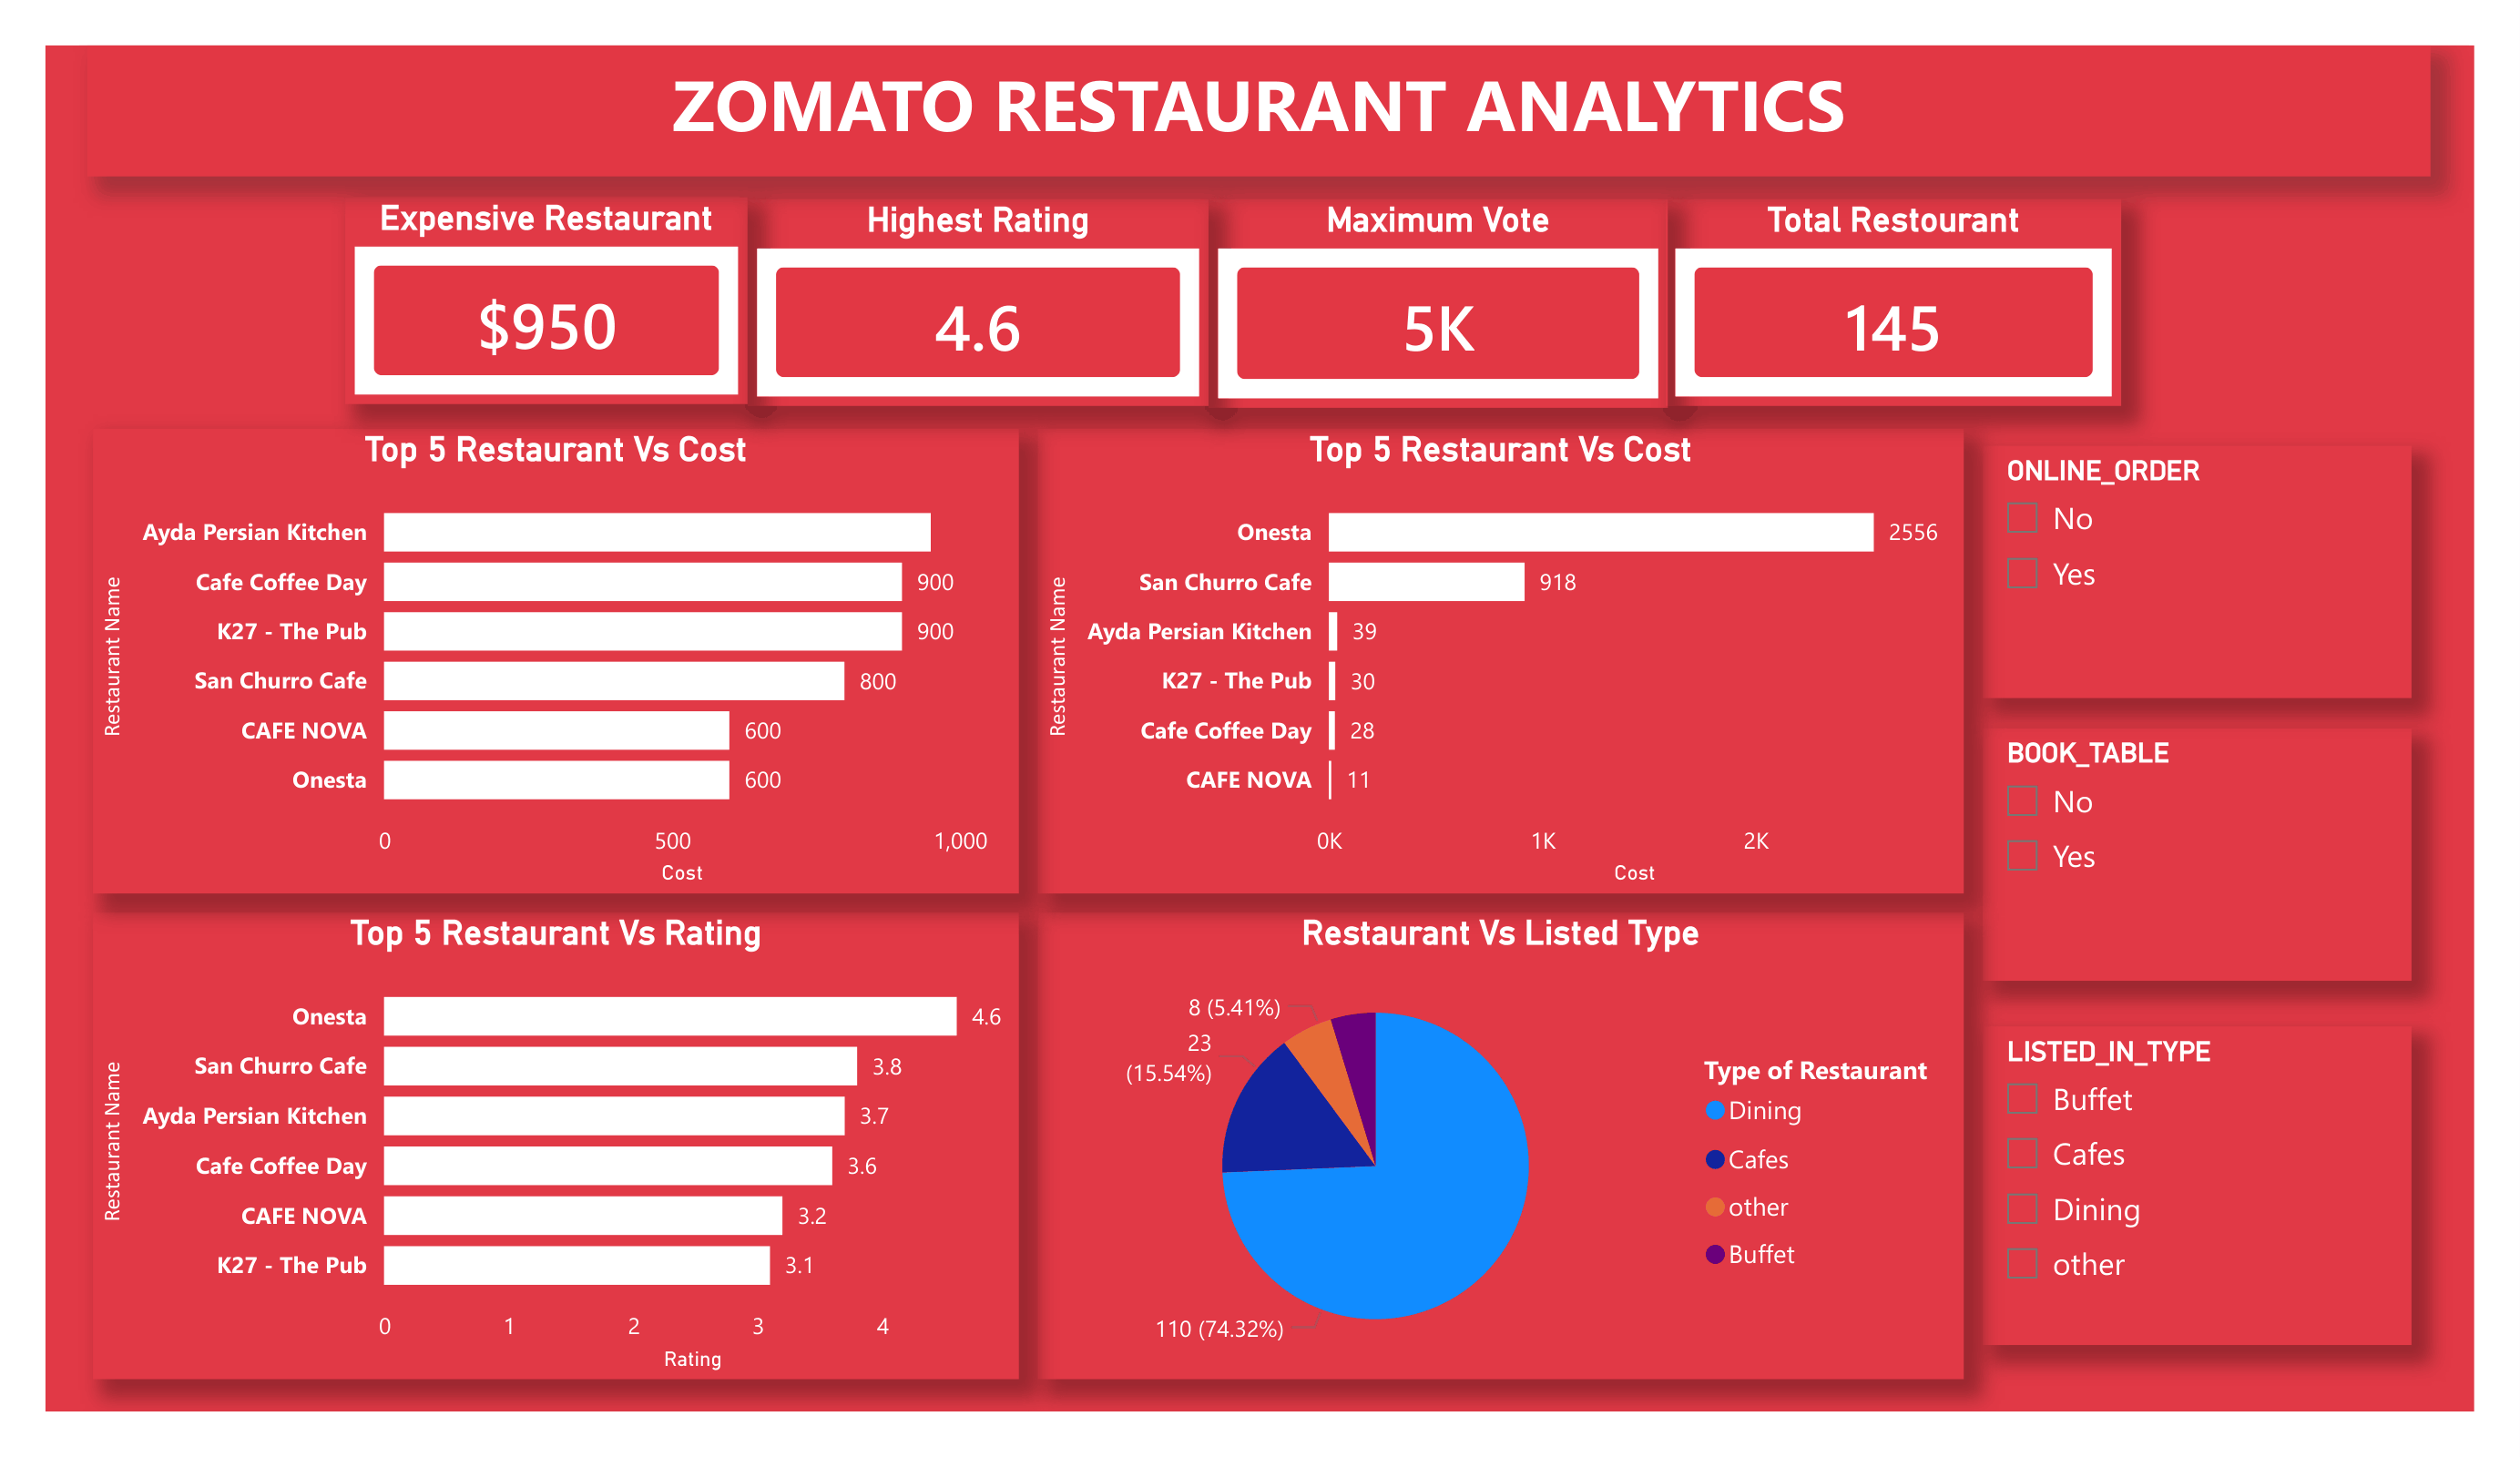

This screenshot's page, from the dashboard's own definition file:
{"tool":"powerbi","page":{"name":"Preview","canvas":[1280,720],"ordinal":0},"visuals":[{"type":"textbox","box":[22,0,1235,68.6],"z":0},{"type":"cardVisual","title":"Expensive Restaurant","fields":{"Data":["Max(ZOMATO_DATA.COST)"]},"box":[157.5,79.6,212.7,109.8],"z":1000},{"type":"cardVisual","title":"Highest Rating","fields":{"Data":["Max(ZOMATO_DATA.RATING)"]},"box":[370.5,80.7,242.9,109.8],"z":2000},{"type":"cardVisual","title":"Maximum Vote","fields":{"Data":["Max(ZOMATO_DATA.VOTES)"]},"box":[613.1,81,241.5,109.8],"z":3000},{"type":"cardVisual","title":"Total Restourant","fields":{"Data":["Count(ZOMATO_DATA.NAME)"]},"box":[854.3,80.7,240.1,109.8],"z":4000},{"type":"barChart","title":"Top 5 Restaurant Vs Cost","fields":{"Category":["ZOMATO_DATA.NAME"],"Y":["Max(ZOMATO_DATA.COST)"]},"box":[24.7,201.7,488.5,245.6],"z":5000},{"type":"barChart","title":"Top 5 Restaurant Vs Rating","fields":{"Category":["ZOMATO_DATA.NAME"],"Y":["Max(ZOMATO_DATA.RATING)"]},"box":[24.7,456.9,488.5,245.6],"z":6000},{"type":"barChart","title":"Top 5 Restaurant Vs Cost","fields":{"Category":["ZOMATO_DATA.NAME"],"Y":["Max(ZOMATO_DATA.VOTES)"]},"box":[522.8,201.7,488.5,245.6],"z":7000},{"type":"pieChart","title":"Restaurant Vs Listed Type","fields":{"Category":["ZOMATO_DATA.LISTED_IN_TYPE"],"Y":["CountNonNull(ZOMATO_DATA.NAME)"]},"box":[522.8,456.9,488.5,245.6],"z":8000},{"type":"slicer","fields":{"Values":["ZOMATO_DATA.ONLINE_ORDER"]},"box":[1020.9,211.3,226.4,133.1],"z":9000},{"type":"slicer","fields":{"Values":["ZOMATO_DATA.BOOK_TABLE"]},"box":[1020.9,359.5,226.4,133.1],"z":10000},{"type":"slicer","fields":{"Values":["ZOMATO_DATA.LISTED_IN_TYPE"]},"box":[1020.9,517.3,226.4,167.4],"z":11000}]}

Visuals, with their boxes on the page's 1280x720 design canvas (x1, y1, x2, y2). These are canvas units, not pixel positions in the 2520x1457 screenshot, which may show the page scaled, cropped or inside an application window:
textbox: left=22, top=0, right=1257, bottom=69
"Expensive Restaurant" cardVisual: left=158, top=80, right=370, bottom=189
"Highest Rating" cardVisual: left=370, top=81, right=613, bottom=190
"Maximum Vote" cardVisual: left=613, top=81, right=855, bottom=191
"Total Restourant" cardVisual: left=854, top=81, right=1094, bottom=190
"Top 5 Restaurant Vs Cost" barChart: left=25, top=202, right=513, bottom=447
"Top 5 Restaurant Vs Rating" barChart: left=25, top=457, right=513, bottom=702
"Top 5 Restaurant Vs Cost" barChart: left=523, top=202, right=1011, bottom=447
"Restaurant Vs Listed Type" pieChart: left=523, top=457, right=1011, bottom=702
slicer - ZOMATO_DATA.ONLINE_ORDER: left=1021, top=211, right=1247, bottom=344
slicer - ZOMATO_DATA.BOOK_TABLE: left=1021, top=360, right=1247, bottom=493
slicer - ZOMATO_DATA.LISTED_IN_TYPE: left=1021, top=517, right=1247, bottom=685
